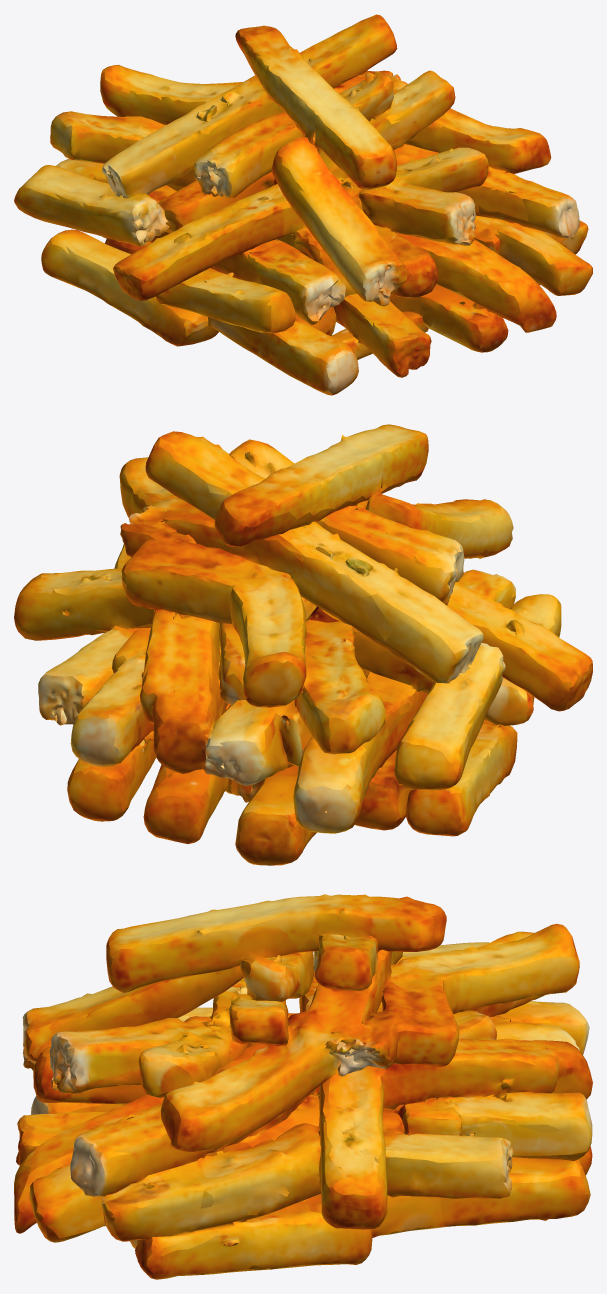
Rendered from rosemary-fries-1.glb.
The picture shows the model from 3 angles, top to bottom: view 1: azimuth 30°, elevation 25°; view 2: azimuth 150°, elevation 25°; view 3: azimuth 270°, elevation 25°; orthographic projection. The views are drawn at different scales.
Parts seen in each view (by area): view 1: geometry_0; view 2: geometry_0; view 3: geometry_0.
Boxes of the visible parts, box(x1,y1,x2,y2) form: geometry_0: box(14, 14, 592, 395); geometry_0: box(14, 424, 592, 865); geometry_0: box(14, 894, 592, 1279).
Bounding box in the file's own units: 0.07 × 0.0399 × 0.0701.
Materials: 1 (1 with a texture image).
